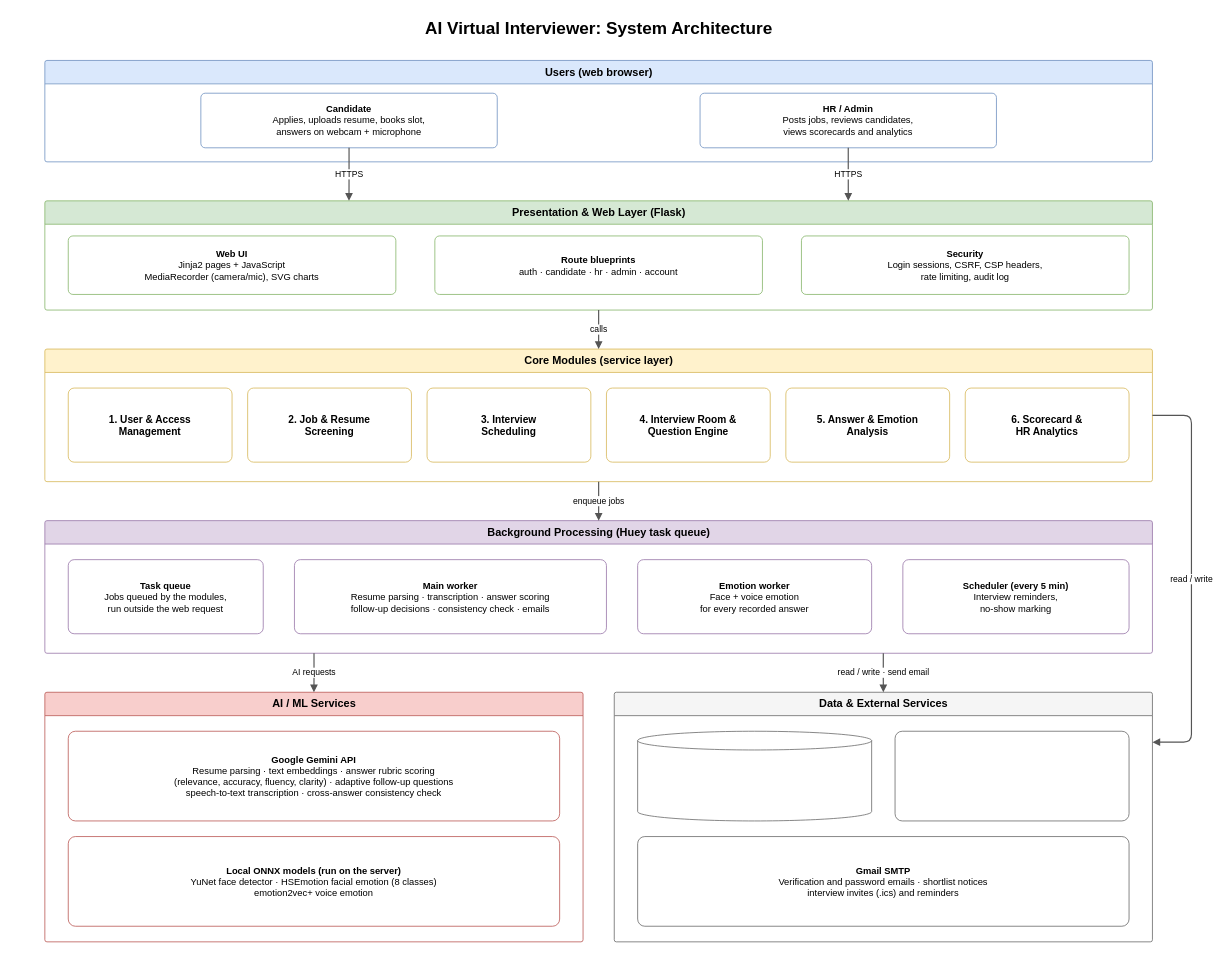
The diagram is 1225 pixels wide and 955 high, and some of its shapes have lost their labels. The shapes that lost their labels are listed below. From the top down, each one's centre as x and y in pixels, then its label:
(x=754, y=775): Database SQLite (dev) / PostgreSQL SQLAlchemy + Alembic migrations
(x=1011, y=775): Encrypted file storage Resumes and answer recordings (Fernet encryption at rest)
